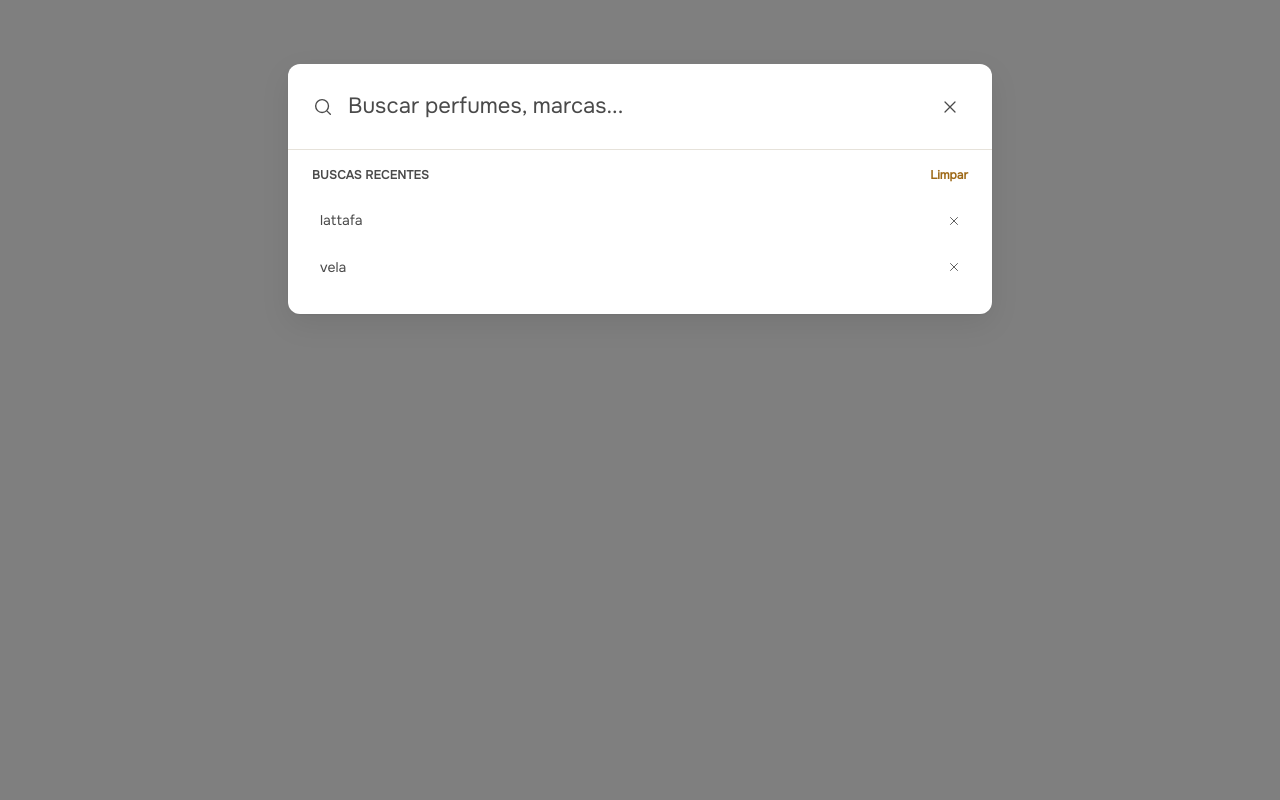
Test: da para esquecer uma busca do histórico
Click the button named "Remover \"lattafa\" das buscas recentes" at (954, 221), box left=940, top=207, right=968, bottom=235
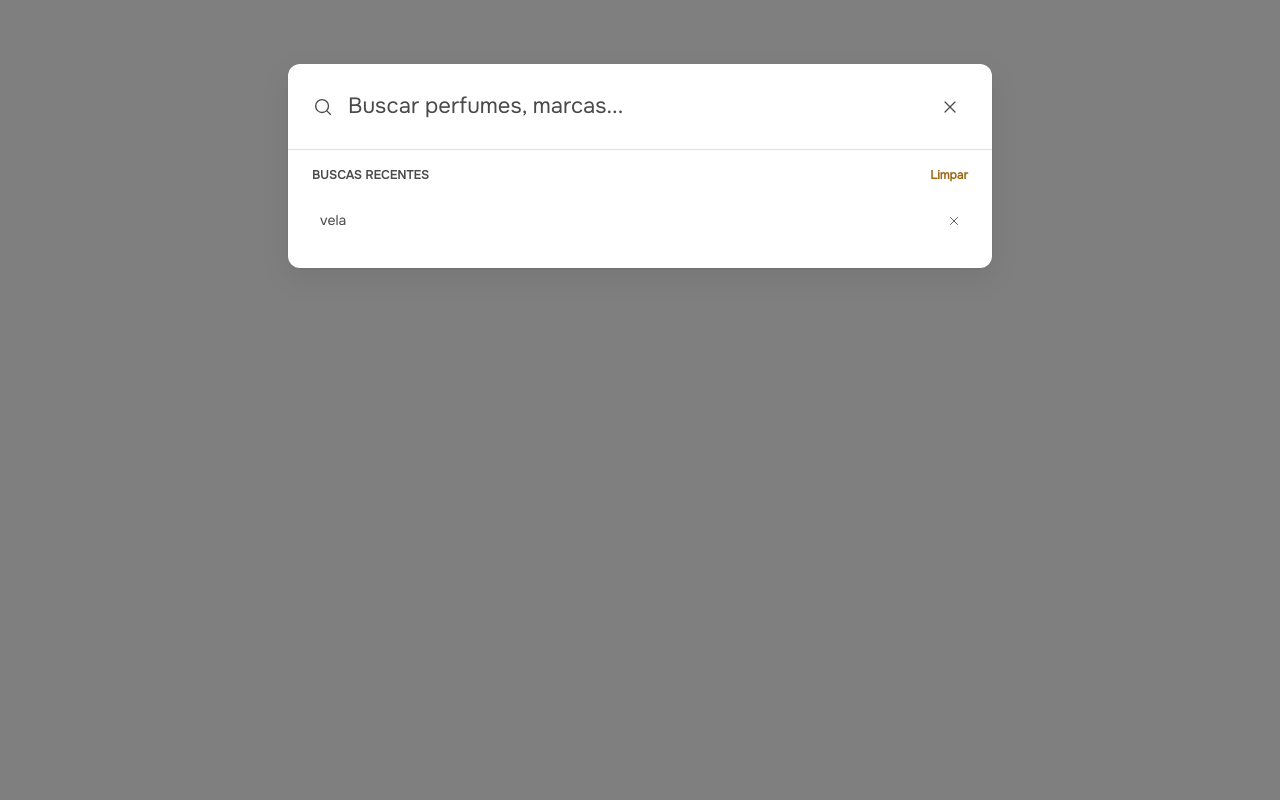
Expected: the button "vela" is shown, left=312, top=197, right=932, bottom=244
Result: the button "lattafa" is gone
